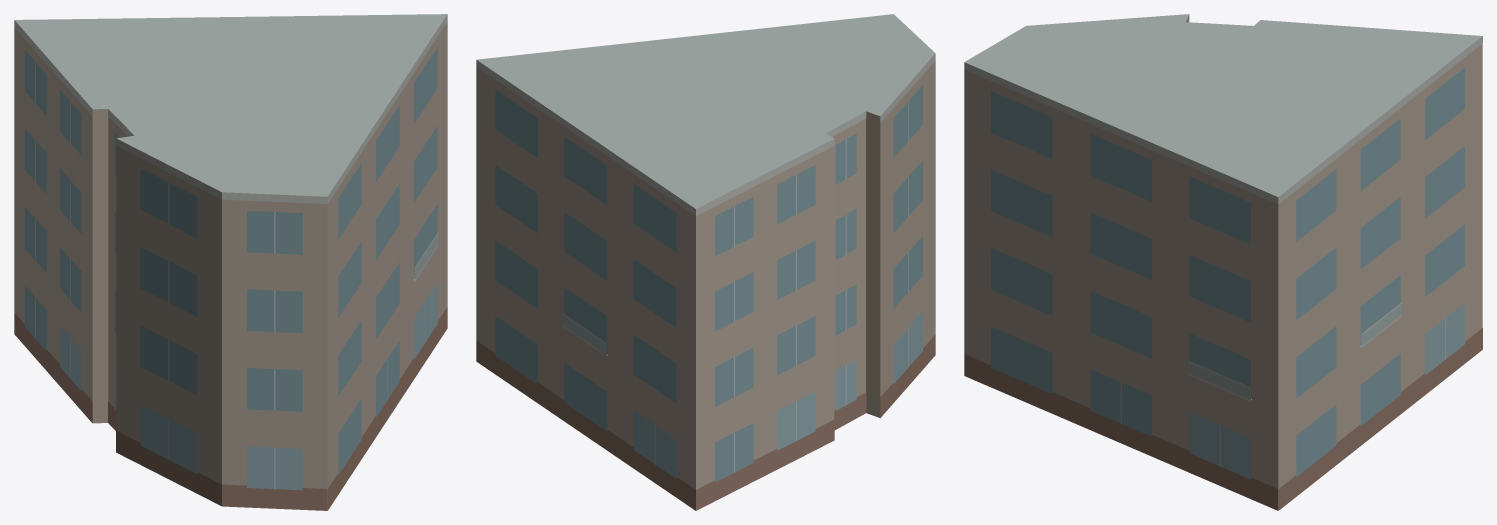
The model's file is survey-upis-32677590.glb.
3 views of the same model, side by side, from view 1: azimuth 30°, elevation 25°; view 2: azimuth 150°, elevation 25°; view 3: azimuth 270°, elevation 25° (orthographic). The views are drawn at different scales.
Visible parts, largest first — view 1: survey-upis-32677590.tmp; view 2: survey-upis-32677590.tmp; view 3: survey-upis-32677590.tmp.
Part boxes in pixels (x1,y1,x2,y2): survey-upis-32677590.tmp: (14, 14, 447, 510); survey-upis-32677590.tmp: (476, 14, 935, 510); survey-upis-32677590.tmp: (964, 14, 1482, 510).
Bounding box in the file's own units: 13.04 × 10.4 × 15.59.
